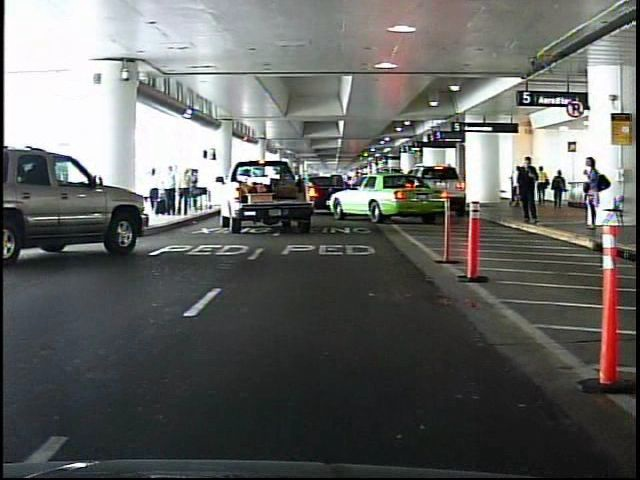person: (581, 154, 607, 234), (513, 152, 540, 227), (549, 169, 568, 210), (537, 166, 548, 206)
